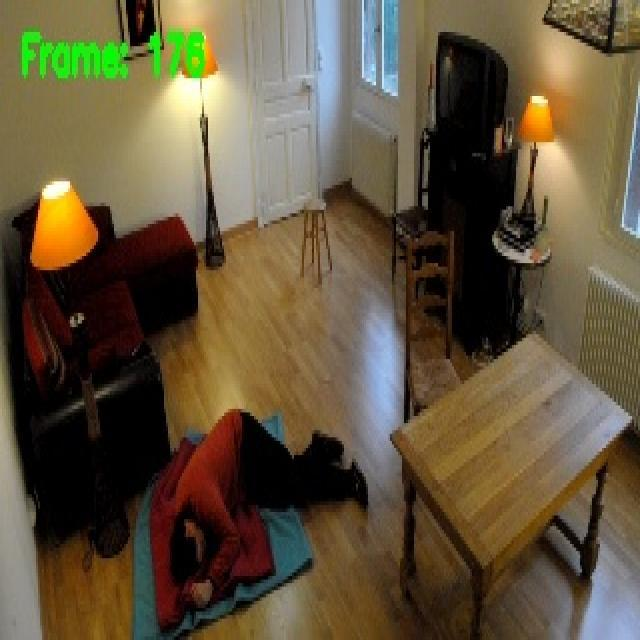fall: (168, 405, 372, 617)
